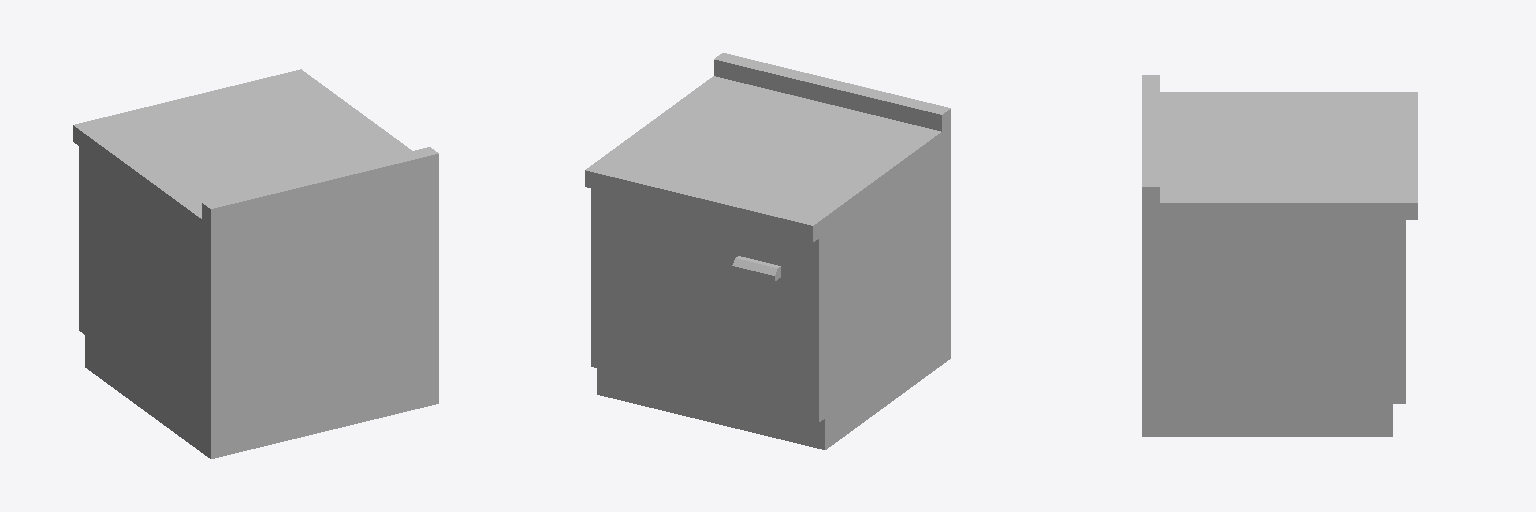
Rendered from kitchenCabinet.obj.
3 views of the same model, side by side, from view 1: azimuth 30°, elevation 25°; view 2: azimuth 150°, elevation 25°; view 3: azimuth 270°, elevation 25° (orthographic).
Parts seen in each view (by area): view 1: kitchenCabinet; view 2: kitchenCabinet, door; view 3: kitchenCabinet.
Boxes of the visible parts, x1=… form: kitchenCabinet: x1=73, y1=69, x2=438, y2=458; kitchenCabinet: x1=585, y1=53, x2=950, y2=449; door: x1=605, y1=201, x2=804, y2=403; kitchenCabinet: x1=1142, y1=75, x2=1417, y2=436.
Bounding box in the file's own units: 0.43 × 0.45 × 0.45.